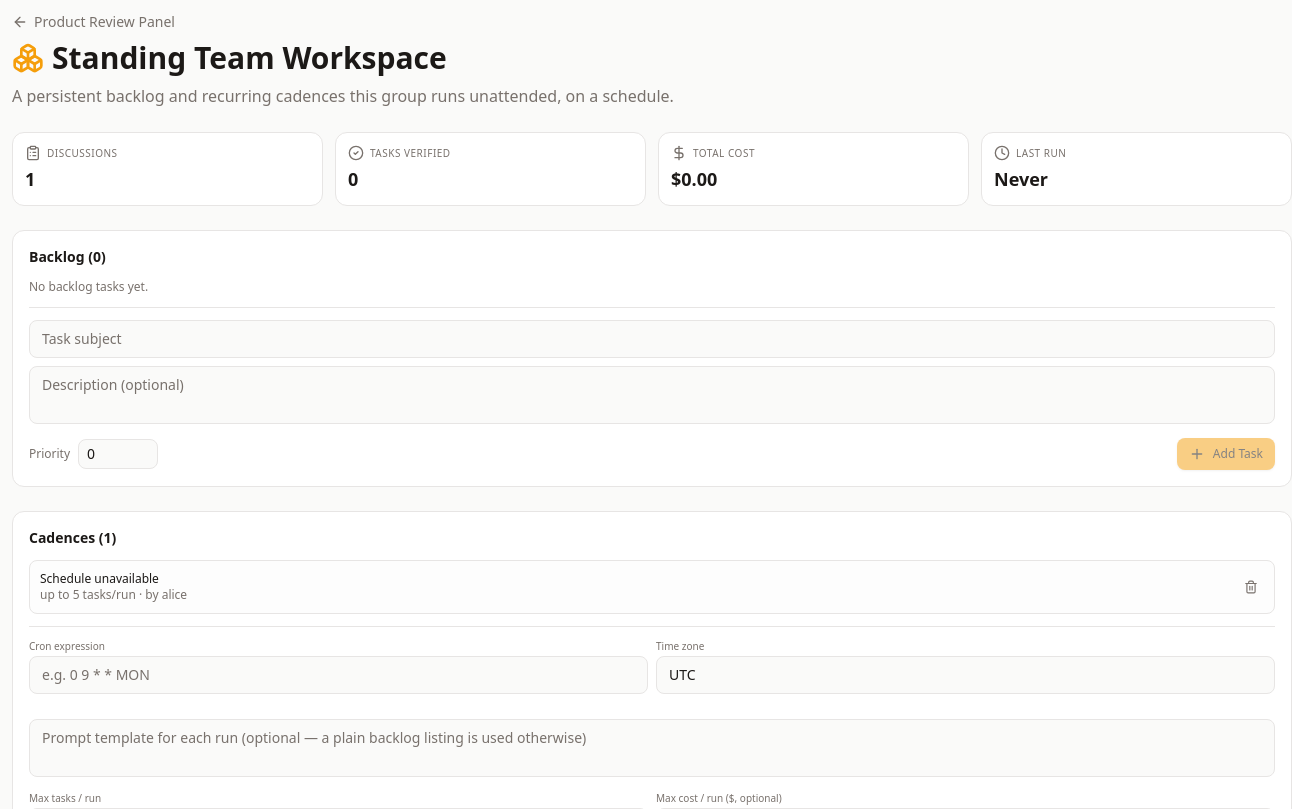
GroupWorkspacePage — cron input › describes the expression as it is typed
Type "0 9 * * MON" into the field with test id "workspace-cron-input" at (338, 675), box [29,656,648,694]
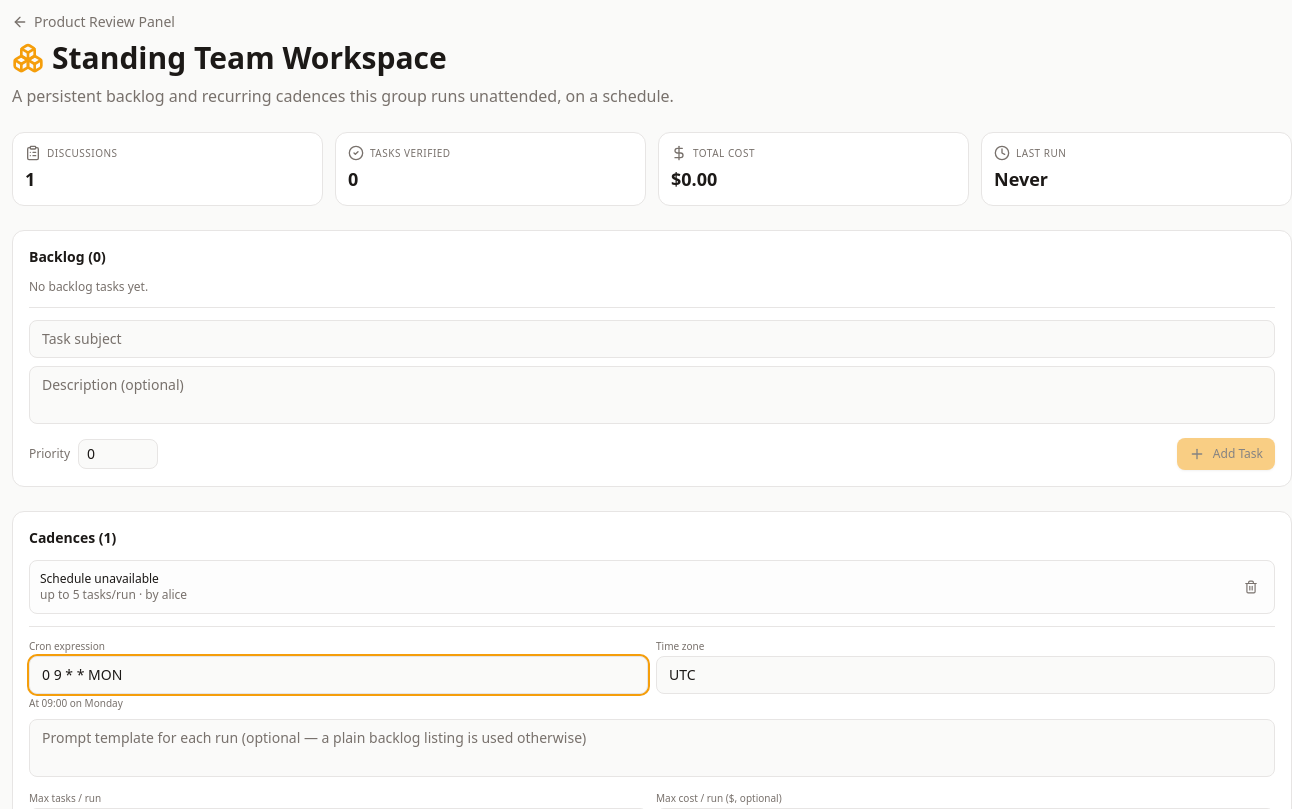
Now the text with test id "workspace-cron-hint" shows "Monday", box [29,696,123,710]
